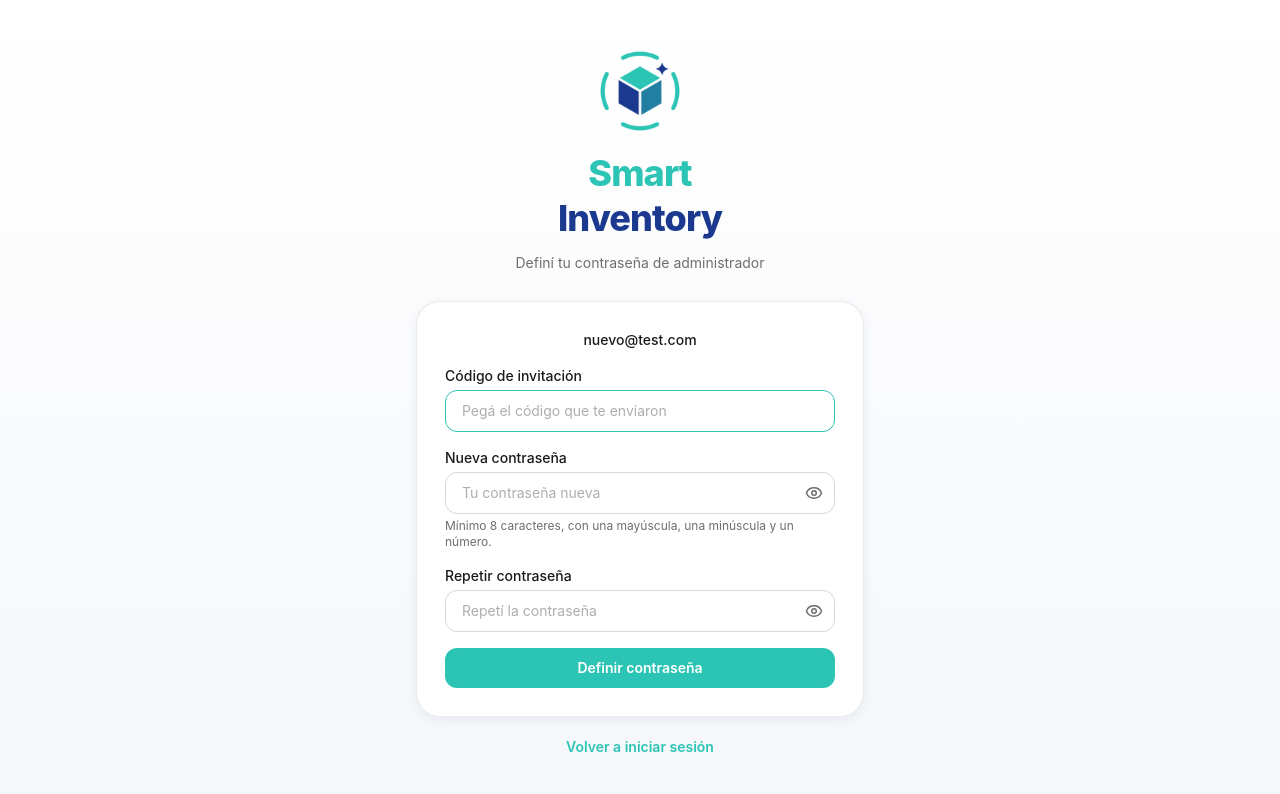
SetPassword › si falla el backend, muestra el error
Type "codigo-123" into the field with placeholder "Pegá el código que te enviaron" at (640, 411), box 445,390 -> 835,432
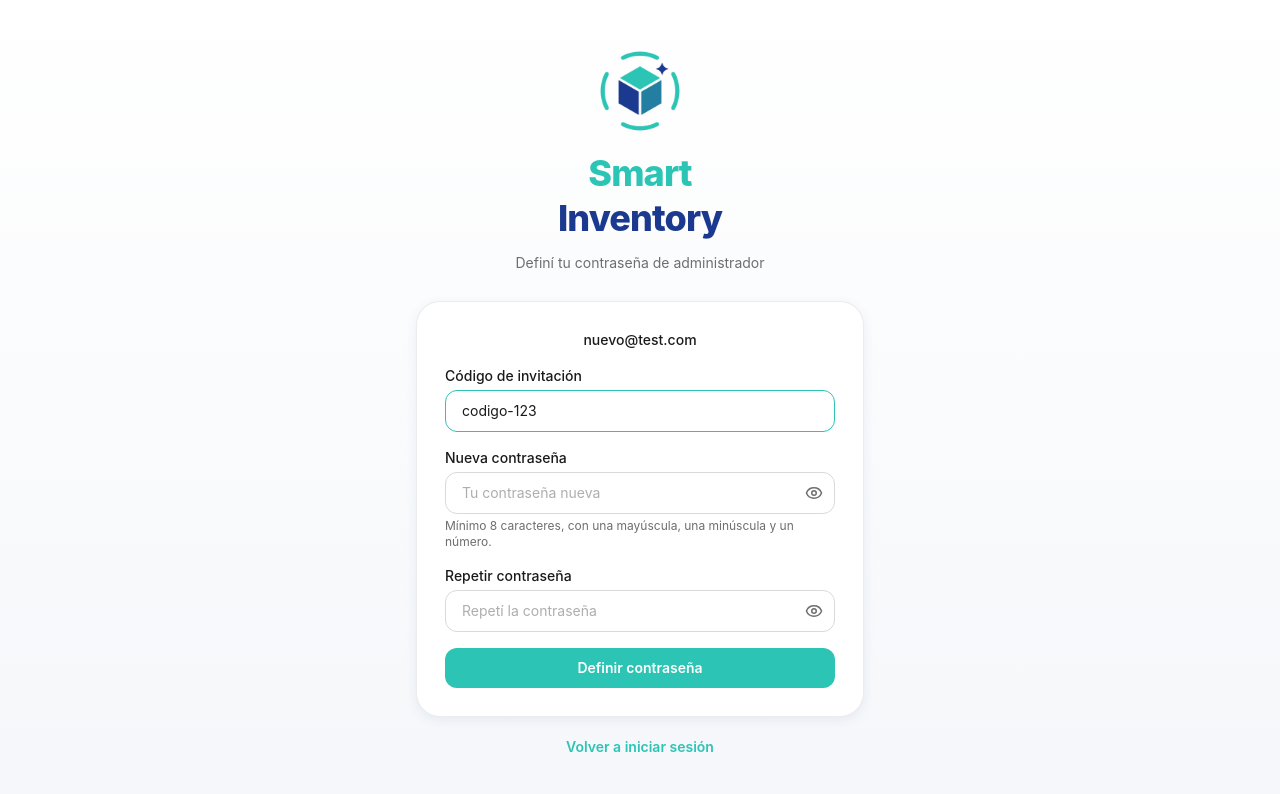
Type "Abcdefg1" into the password field labelled "Nueva contraseña" at (640, 493), box 445,472 -> 835,514
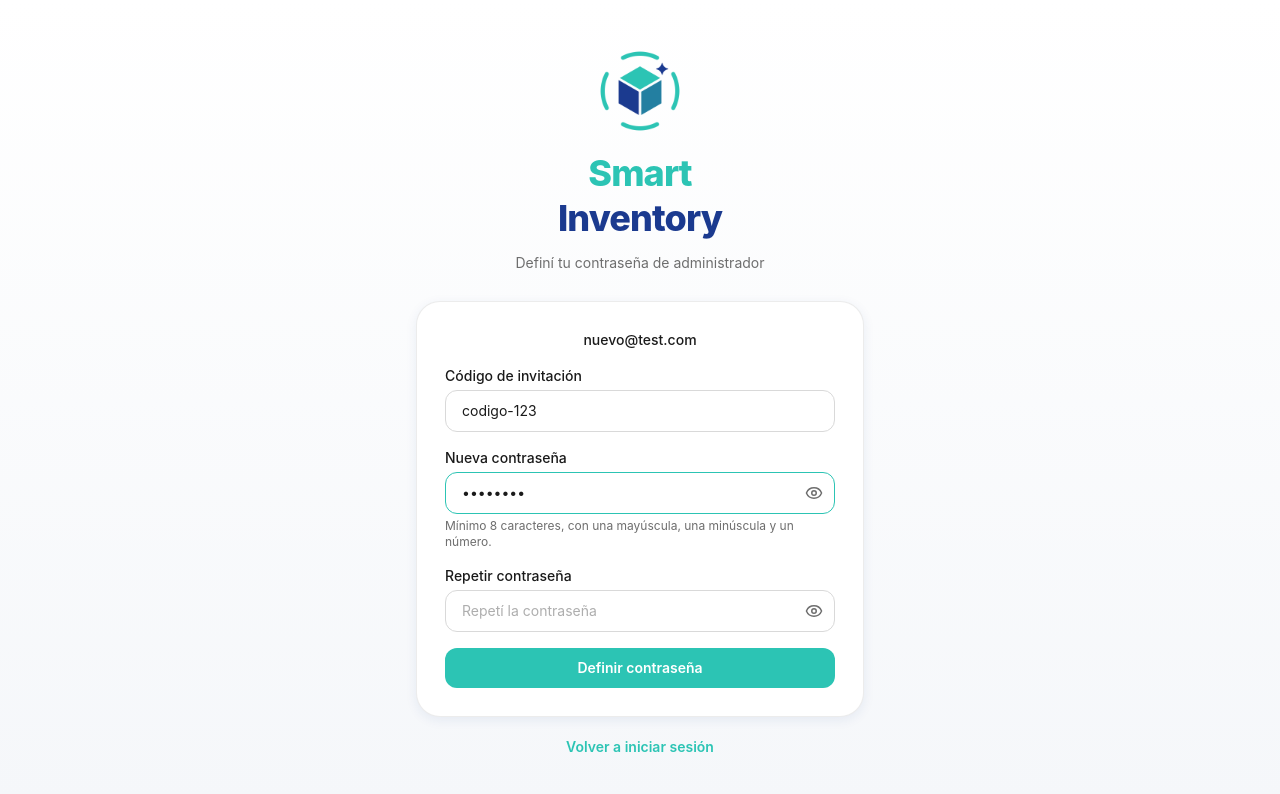
Type "Abcdefg1" into the password field labelled "Repetir contraseña" at (640, 611), box 445,590 -> 835,632
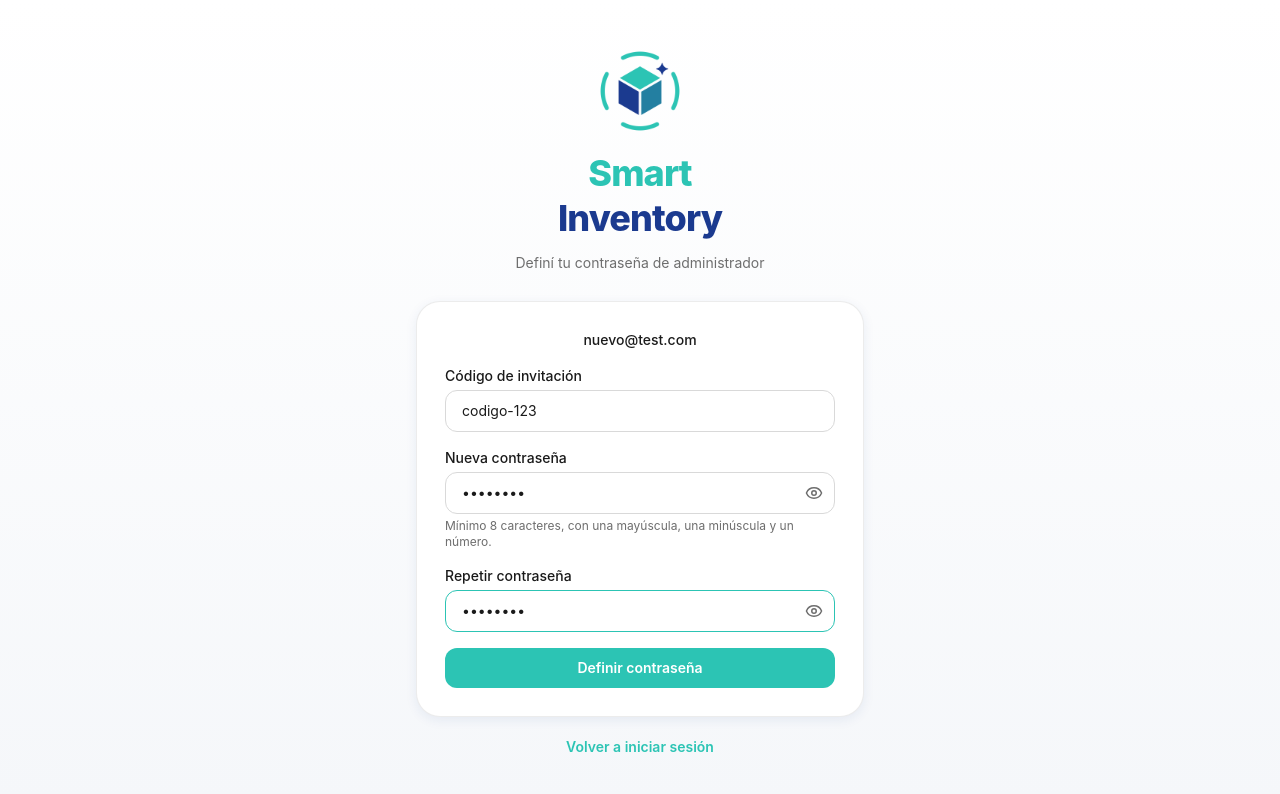
Click the button "Definir contraseña" at (640, 668), box 445,648 -> 835,688
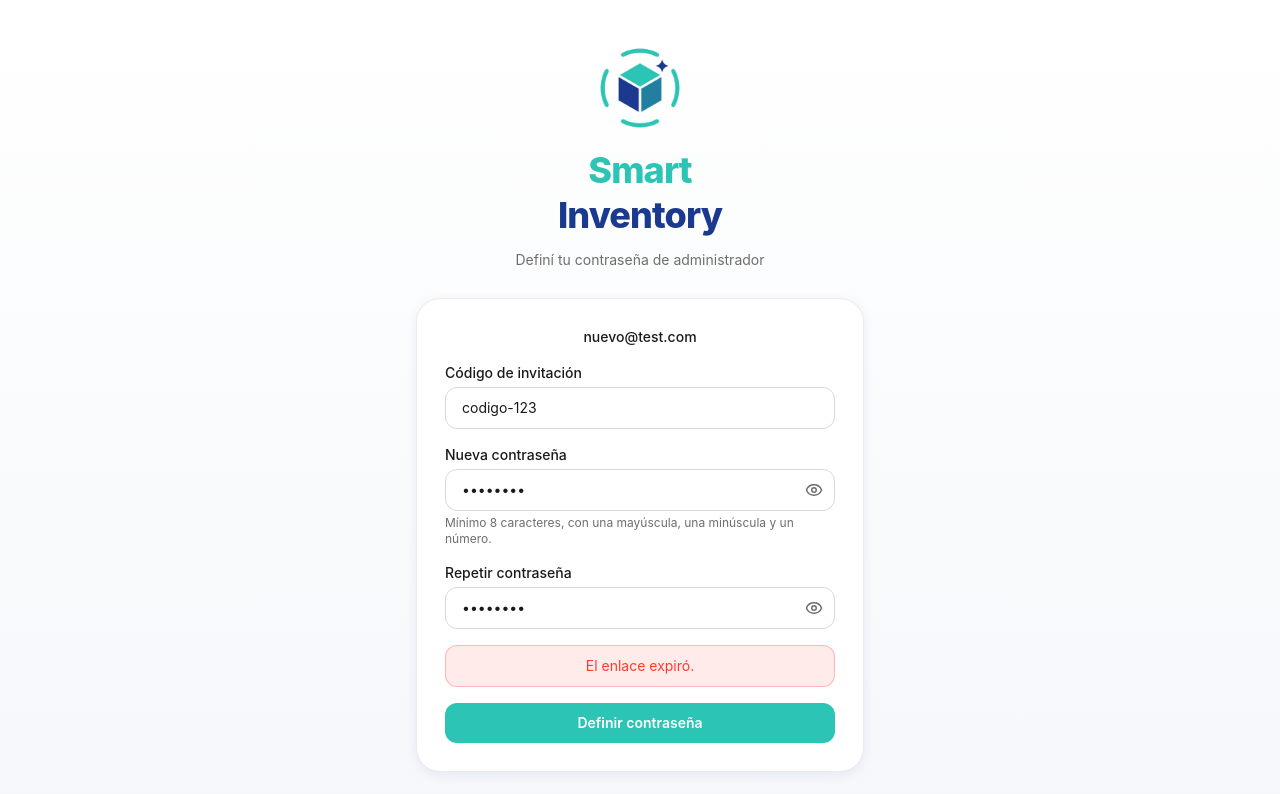
Now the text "El enlace expiró." is shown, box 445,645 -> 835,687
